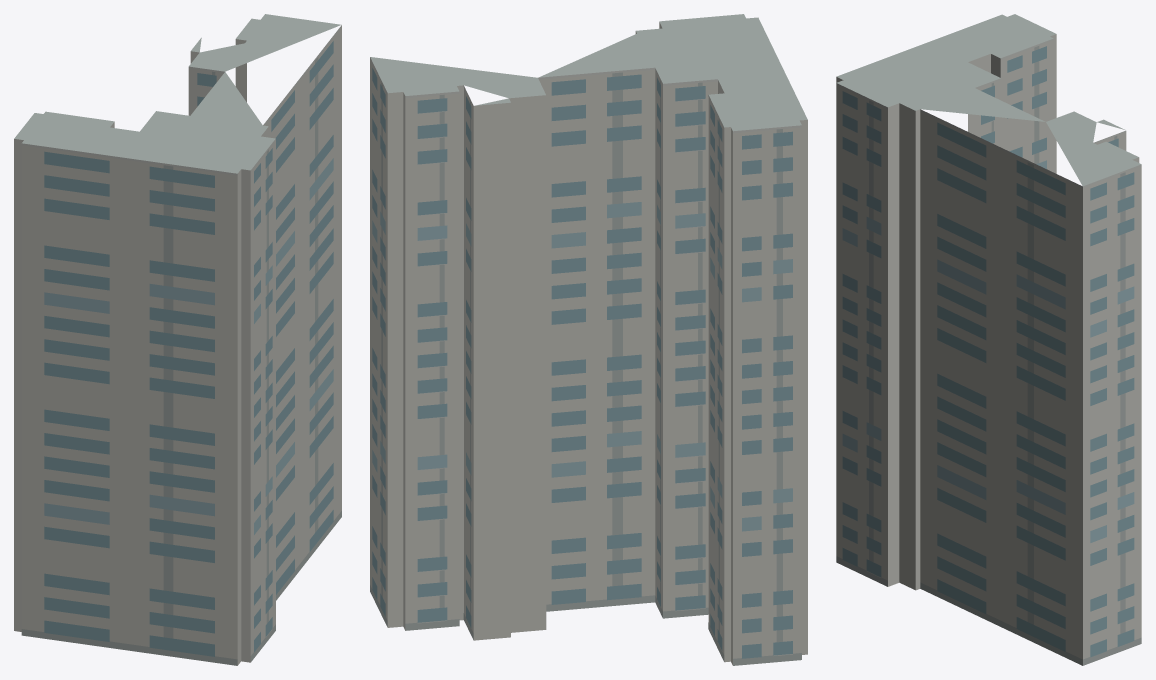
Rendered from residential-e7b36791-0db8-448a-a460-78b054176eea.glb.
3 renders of one model, left to right at view 1: azimuth 30°, elevation 25°; view 2: azimuth 150°, elevation 25°; view 3: azimuth 270°, elevation 25°, orthographic. The views are drawn at different scales.
Visible parts, largest first — view 1: residential-e7b36791-0db8-448a-a460-78b054176eea.tmp; view 2: residential-e7b36791-0db8-448a-a460-78b054176eea.tmp; view 3: residential-e7b36791-0db8-448a-a460-78b054176eea.tmp.
Part boxes in pixels (x1,y1,x2,y2): residential-e7b36791-0db8-448a-a460-78b054176eea.tmp: (14,14,341,665); residential-e7b36791-0db8-448a-a460-78b054176eea.tmp: (370,14,807,665); residential-e7b36791-0db8-448a-a460-78b054176eea.tmp: (836,14,1141,665).
Bounding box in the file's own units: 50.13 × 65 × 37.53.
